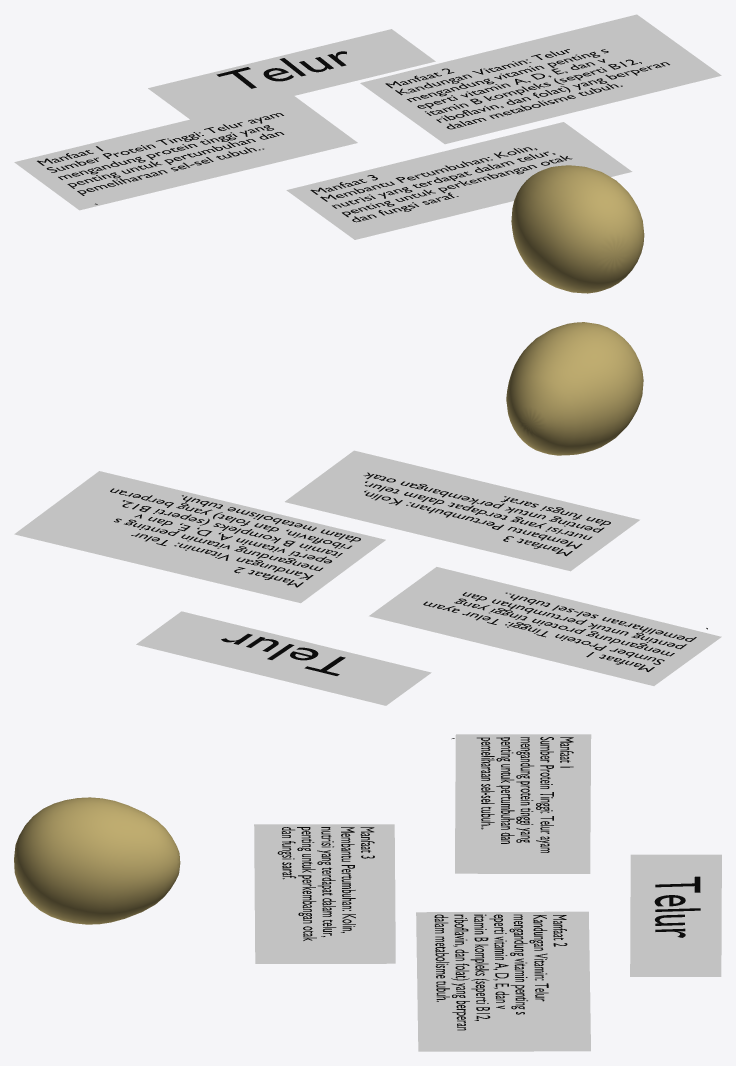
Rendered from Egg.glb.
3 views of the same model, one above another, from view 1: azimuth 30°, elevation 25°; view 2: azimuth 150°, elevation 25°; view 3: azimuth 270°, elevation 25° (orthographic). The views are drawn at different scales.
Parts seen in each view (by area): view 1: manfaat2 plane, manfaat1, manfaat3 plane, Sphere.001, Plane, manfaat2, manfaat1.001, manfaat3`, Text; view 2: manfaat2 plane, manfaat3 plane, manfaat1, Sphere.001, Plane, manfaat2, manfaat1.001, manfaat3`, Text; view 3: manfaat2 plane, manfaat3 plane, manfaat1, Sphere.001, Plane, manfaat2, manfaat1.001, manfaat3`, Text.
Part boxes in pixels (<box>): manfaat2 plane: <box>360,14,721,144</box>; manfaat1: <box>14,94,357,210</box>; manfaat3 plane: <box>286,122,632,239</box>; Sphere.001: <box>511,165,644,293</box>; Plane: <box>148,29,435,119</box>; manfaat2: <box>385,49,669,129</box>; manfaat1.001: <box>37,113,284,204</box>; manfaat3`: <box>310,147,572,222</box>; Text: <box>216,51,346,88</box>; manfaat2 plane: <box>14,471,385,603</box>; manfaat3 plane: <box>285,450,639,571</box>; manfaat1: <box>369,567,721,685</box>; Sphere.001: <box>506,322,643,455</box>; Plane: <box>136,611,431,705</box>; manfaat2: <box>110,488,360,587</box>; manfaat1.001: <box>423,592,707,671</box>; manfaat3`: <box>363,472,610,556</box>; Text: <box>221,633,345,675</box>; manfaat2 plane: <box>416,911,590,1051</box>; manfaat3 plane: <box>254,824,395,963</box>; manfaat1: <box>455,734,591,873</box>; Sphere.001: <box>14,797,180,924</box>; Plane: <box>630,854,721,976</box>; manfaat2: <box>434,914,567,1030</box>; manfaat1.001: <box>452,737,573,852</box>; manfaat3`: <box>277,827,374,940</box>; Text: <box>654,876,700,937</box>.
Bounding box in the file's own units: 4.96 × 0.8516 × 4.74.
